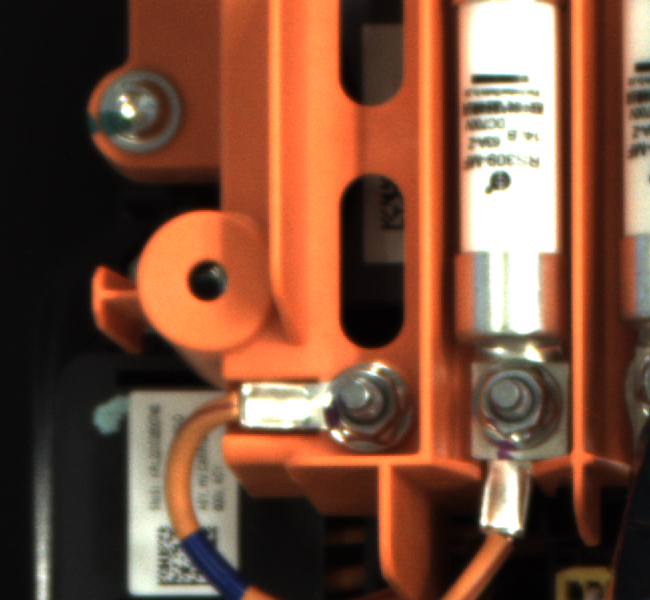screw_m: (87, 63, 193, 167)
screw_s: (465, 359, 585, 467), (314, 361, 421, 458)
